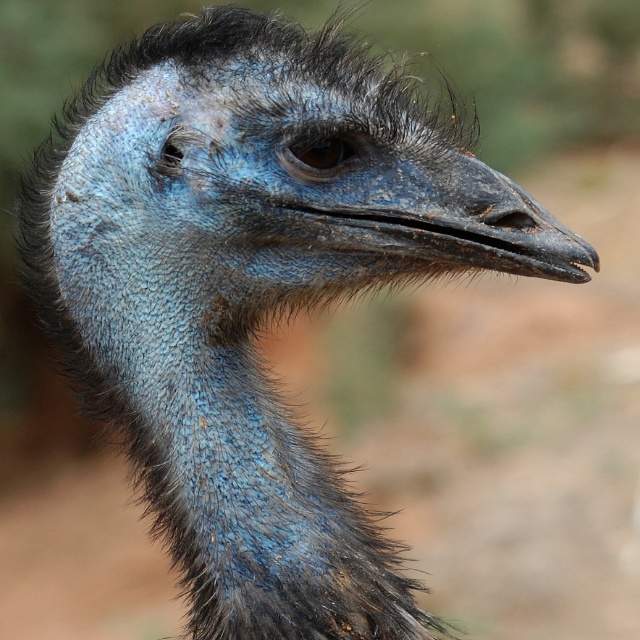Ostrich: (1, 0, 600, 640)
